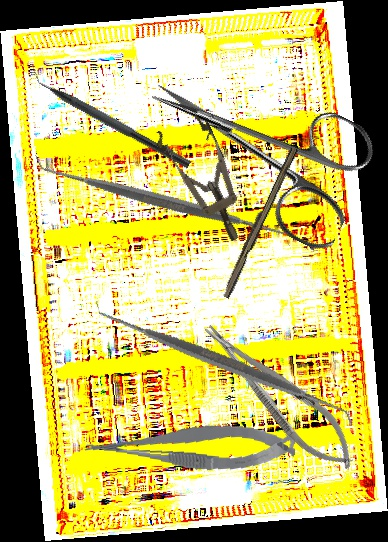Chopper: (23, 62, 198, 170)
Iris Scissors: (123, 35, 387, 256)
Micro Scissor: (84, 411, 297, 479)
Needle Holder: (190, 307, 370, 484)
Scalpel Handle: (219, 144, 299, 301)
Spatula Surgical: (95, 237, 353, 490), (35, 74, 290, 327)
Speculum: (151, 109, 260, 253)
